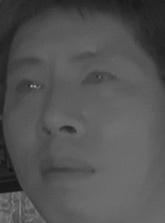eye: (80, 65, 118, 94), (11, 74, 46, 101)
mouth: (37, 153, 96, 191)
